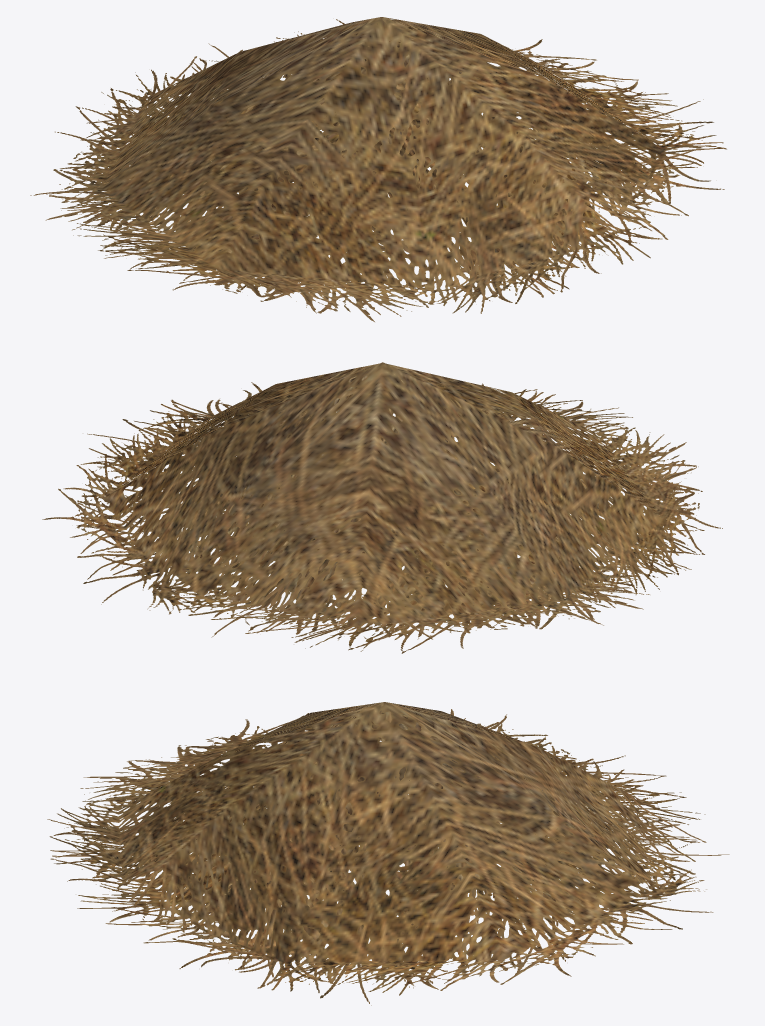
File: fxdx_daocao_01.FBX
3 renders of one model, top to bottom at view 1: azimuth 30°, elevation 25°; view 2: azimuth 150°, elevation 25°; view 3: azimuth 270°, elevation 25°, orthographic. The views are drawn at different scales.
Parts seen in each view (by area): view 1: fxdx_daocao_01; view 2: fxdx_daocao_01; view 3: fxdx_daocao_01.
Boxes of the visible parts, x1,y1,x2,y2 form: fxdx_daocao_01: (30,17,726,321); fxdx_daocao_01: (42,362,722,653); fxdx_daocao_01: (47,702,729,1005).
Bounding box in the file's own units: 436 × 98.36 × 431.
